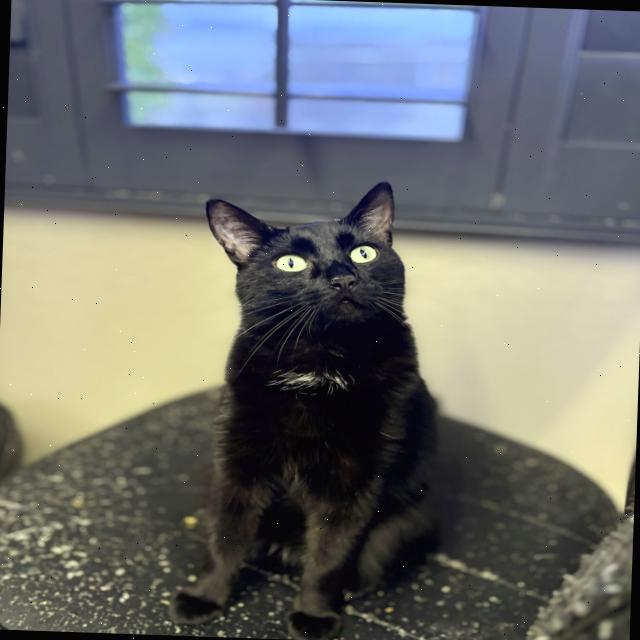bombay_cat: (190, 165, 435, 358)
